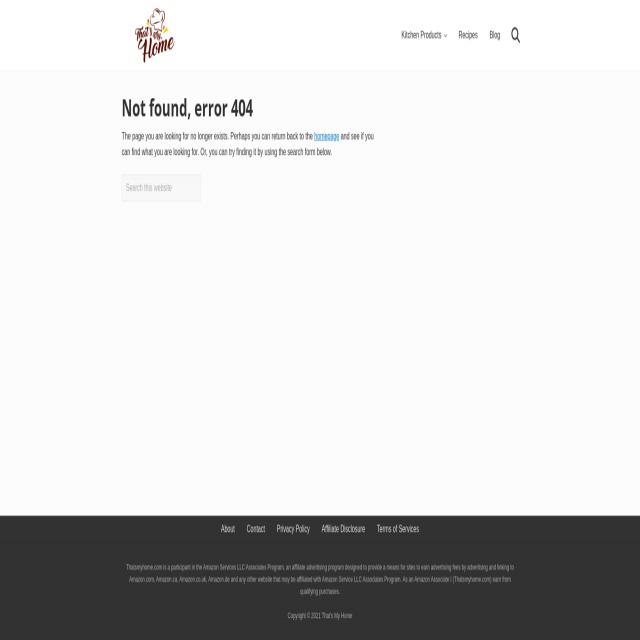button: (122, 5, 188, 66), (396, 26, 452, 45), (453, 25, 483, 44), (484, 26, 506, 45), (506, 26, 524, 45)
field: (121, 175, 201, 201)
